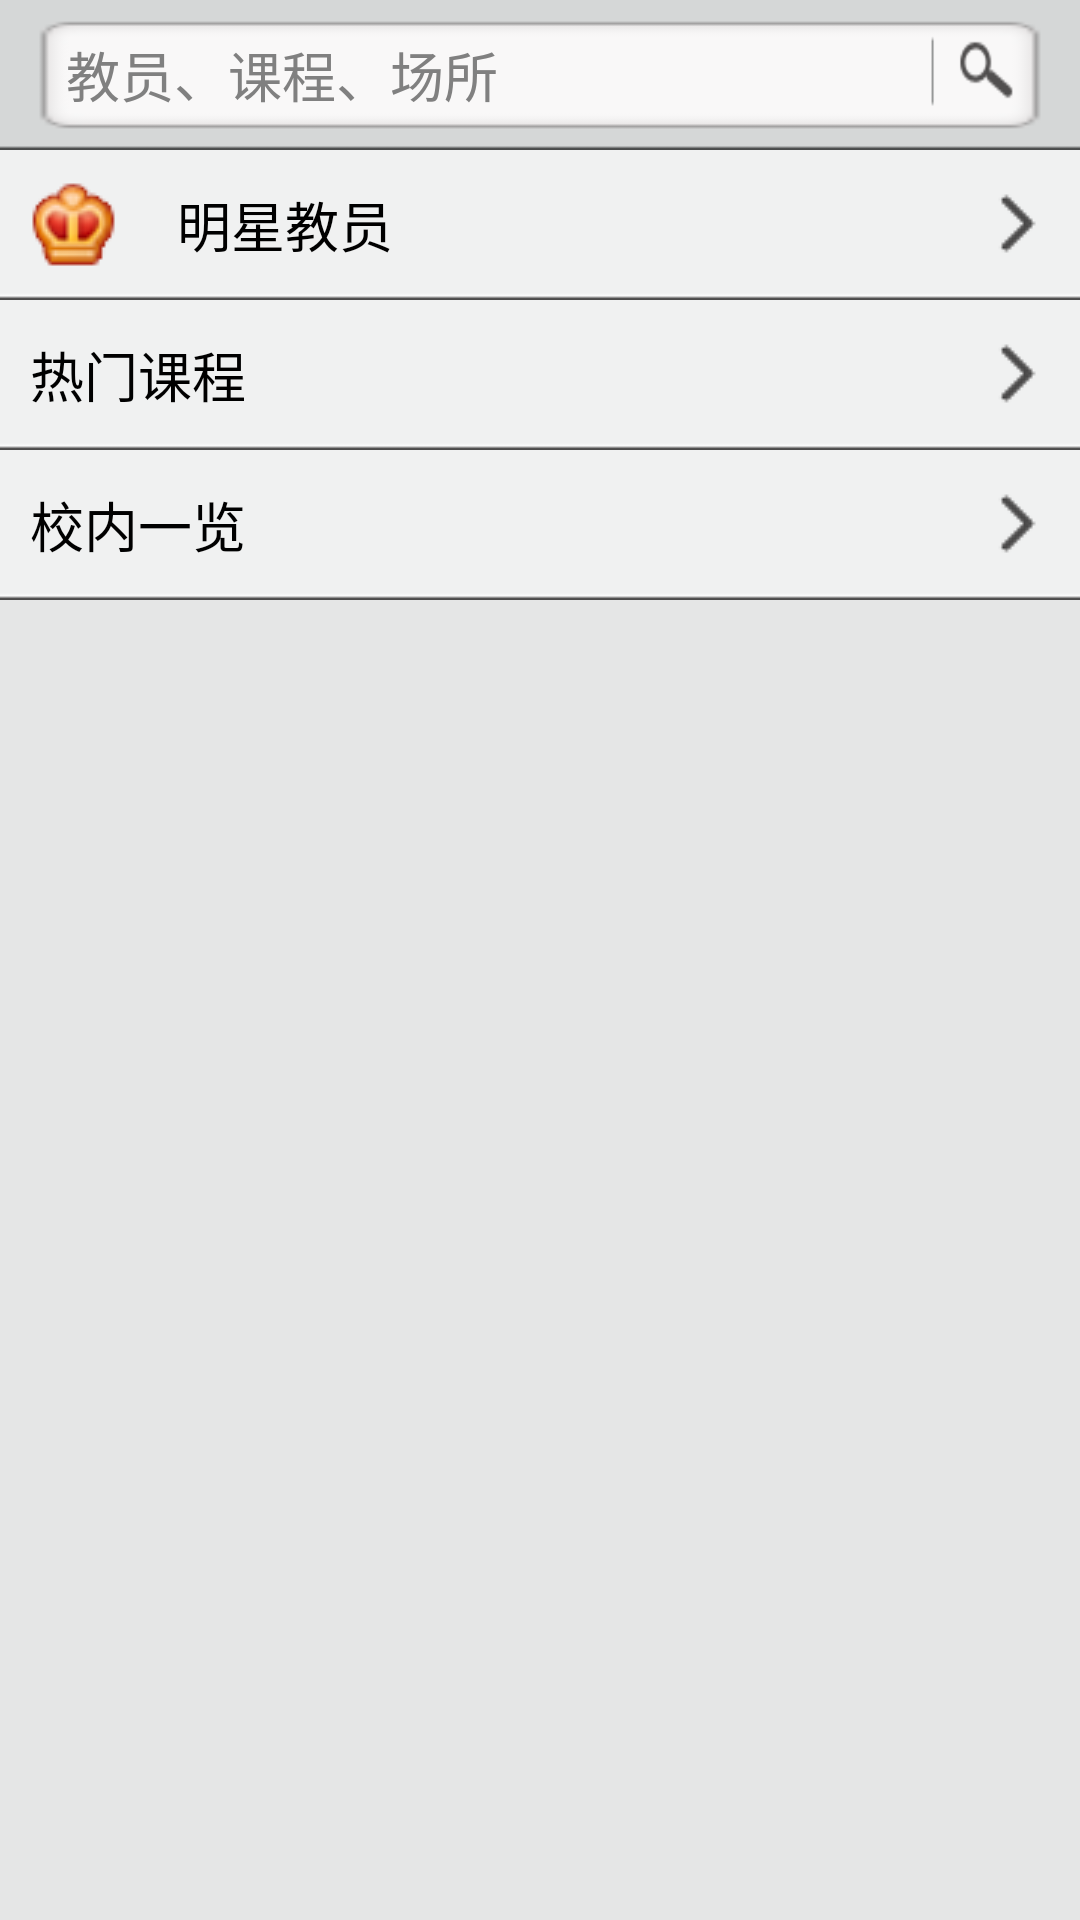

Icon click points for this 1080px x 1920px phone screenshot, format (x=x, y=y):
bbs search bt: (x=972, y=71)
